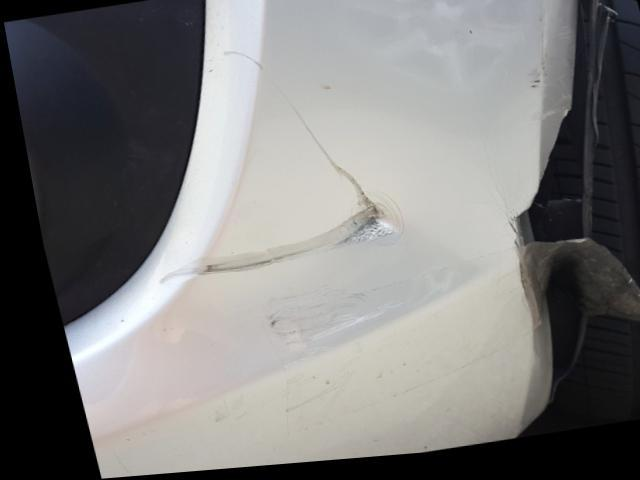dent: (331, 198, 391, 251)
scratch: (218, 51, 359, 198), (147, 229, 333, 286)
